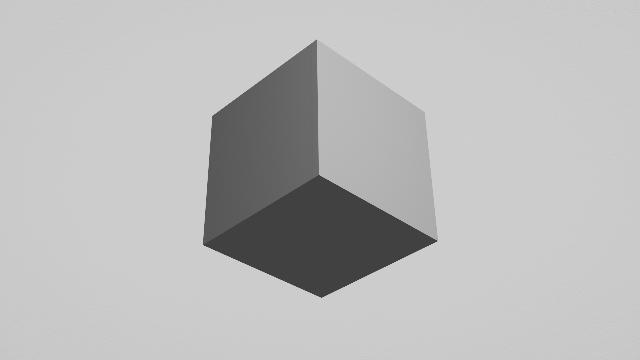Cube: (195, 34, 457, 304)
